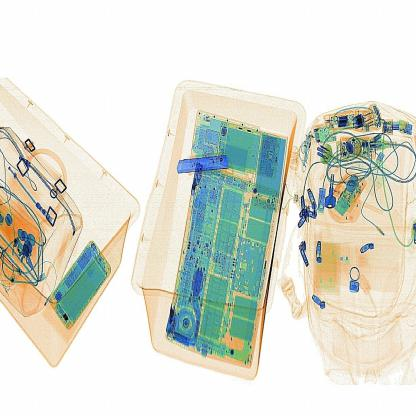pliers: (170, 144, 244, 183)
